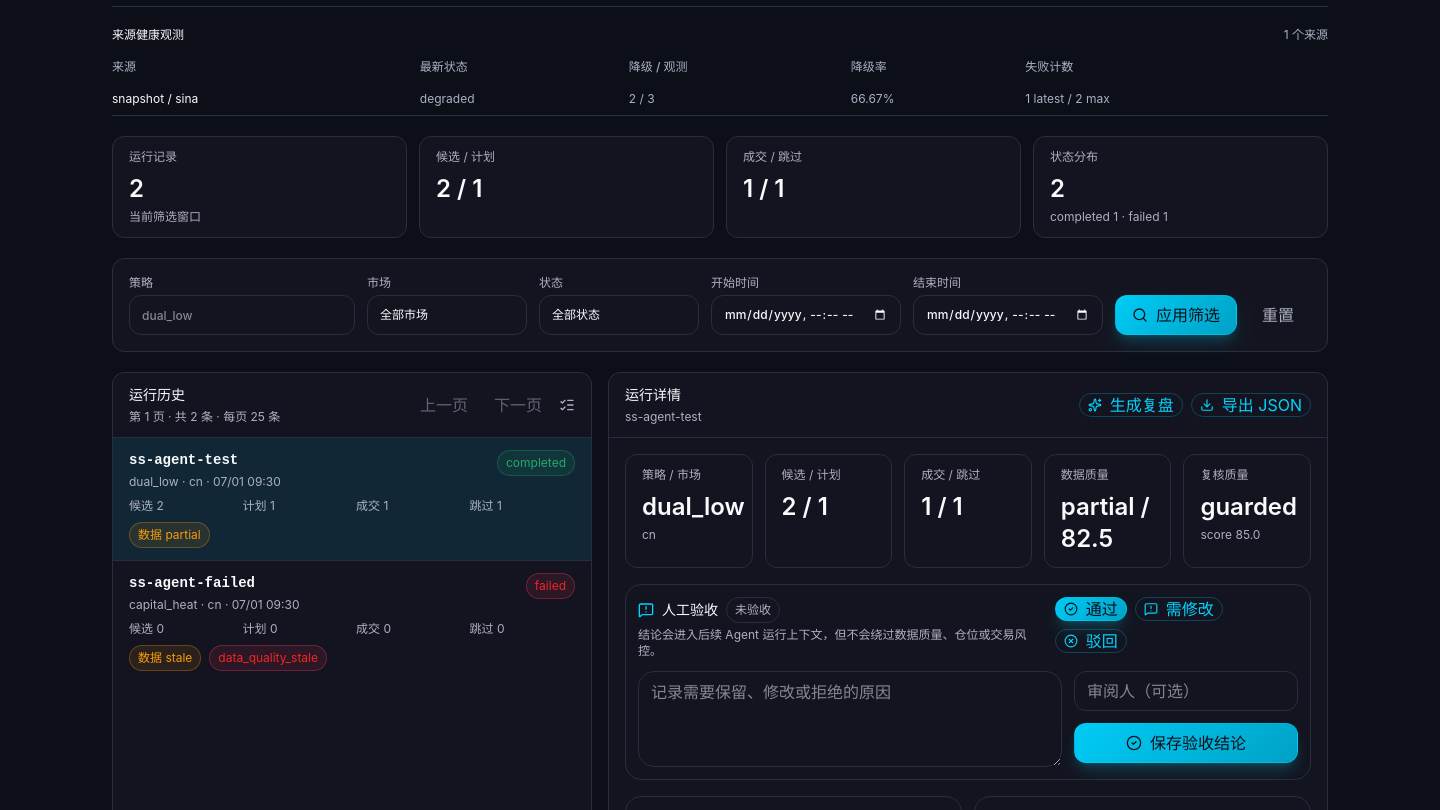
Test: AgentConsolePage › generates an optional LLM recap for the selected Agent run
(page scrolled)
Click the button "生成复盘".
click(1131, 405)  # box x1=1079 y1=393 x2=1183 y2=417
(page scrolled)
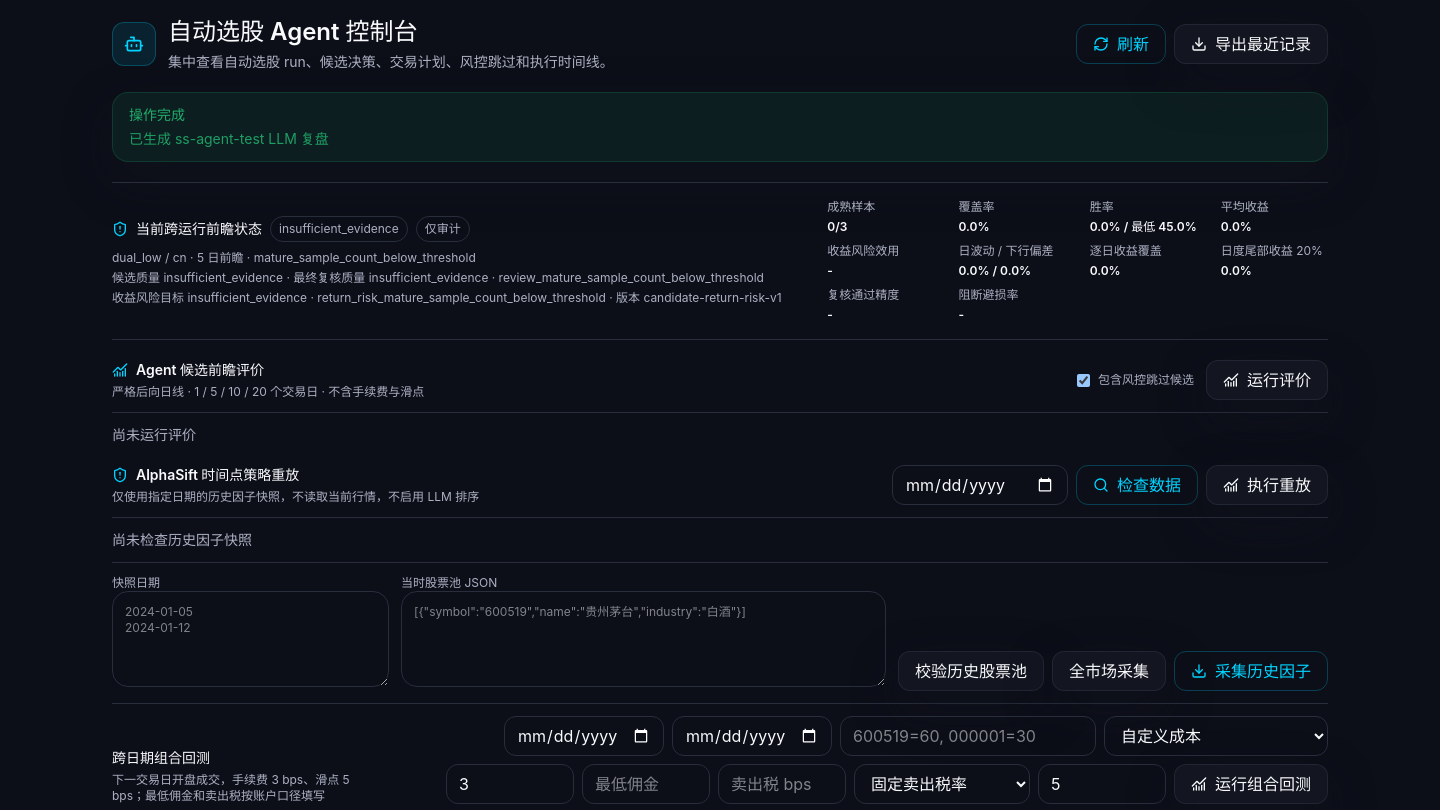
Result: the text "已生成 ss-agent-test LLM 复盘" is shown at x1=129 y1=129 x2=329 y2=149
